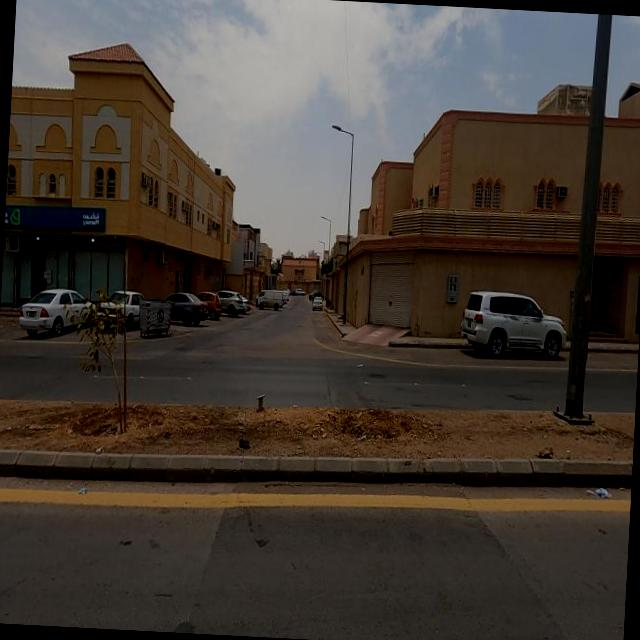debris: (556, 452, 634, 545)
